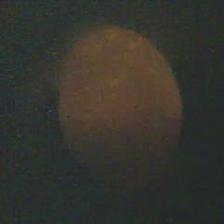fertile: (54, 23, 182, 179)
